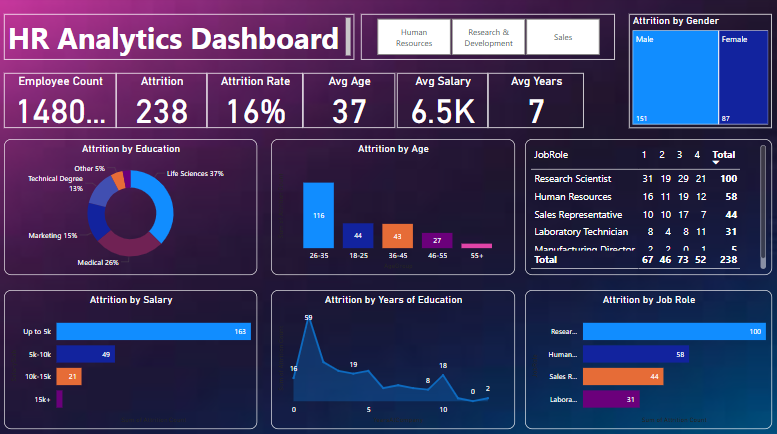

The page's visual inventory and layout, read from the dashboard file:
{"tool":"powerbi","page":{"name":"Page 1","canvas":[1280,720],"ordinal":0},"visuals":[{"type":"card","title":"Employee Count","fields":{"Values":["Sum(HR_Data.EmployeeCount)"]},"box":[8.2,124.6,165.5,90.1],"z":0},{"type":"card","title":"Attrition Rate","fields":{"Values":["HR_Data.Attrition_Rate"]},"box":[367.1,124.6,157.3,90.1],"z":1000},{"type":"card","title":"Avg Age","fields":{"Values":["HR_Data.Avg Age"]},"box":[549,124.6,150.8,90.1],"z":2000},{"type":"card","title":"Avg Salary","fields":{"Values":["Avg(HR_Data.MonthlyIncome)"]},"box":[712.9,124.6,149.1,90.1],"z":3000},{"type":"card","title":"Avg Years","fields":{"Values":["Avg(HR_Data.YearsAtCompany)"]},"box":[880.1,124.6,129.5,90.1],"z":4000},{"type":"card","title":"Attrition","fields":{"Values":["Sum(HR_Data.Attrition Count)"]},"box":[188.5,124.6,152.4,90.1],"z":5000},{"type":"textbox","box":[8.2,27.9,573.6,75.4],"z":6000},{"type":"slicer","fields":{"Values":["Departments.Department"]},"box":[593.3,27.9,416.3,75.4],"z":7000},{"type":"treemap","title":"Attrition by Gender","fields":{"Group":["HR_Data.Gender"],"Values":["Sum(HR_Data.Attrition Count)"]},"box":[1032.5,27.9,234.4,186.8],"z":8000},{"type":"donutChart","title":"Attrition by Education","fields":{"Category":["Education.Education"],"Y":["Sum(HR_Data.Attrition Count)"]},"box":[8.2,232.7,414.6,222.9],"z":9000},{"type":"columnChart","title":"Attrition by Age","fields":{"Y":["Sum(HR_Data.Attrition Count)"],"Category":["HR_Data.AgeGroup"],"Series":["HR_Data.AgeGroup"]},"box":[445.8,232.7,399.9,222.9],"z":10000},{"type":"barChart","title":"Attrition by Salary","fields":{"Y":["Sum(HR_Data.Attrition Count)"],"Category":["HR_Data.SalarySlab"],"Series":["HR_Data.SalarySlab"]},"box":[8.2,480.2,414.6,227.8],"z":11000},{"type":"pivotTable","title":"Attrition by Education","fields":{"Rows":["Jobs.JobRole"],"Values":["Sum(HR_Data.Attrition Count)"],"Columns":["HR_Data.JobSatisfaction"]},"box":[862.1,232.7,404.8,222.9],"z":12000},{"type":"areaChart","title":"Attrition by Years of Education","fields":{"Category":["HR_Data.YearsAtCompany"],"Y":["Sum(HR_Data.Attrition Count)"]},"box":[445.8,480.2,399.9,227.8],"z":13000},{"type":"barChart","title":"Attrition by Job Role","fields":{"Y":["Sum(HR_Data.Attrition Count)"],"Category":["Jobs.JobRole"],"Series":["Jobs.JobRole"]},"box":[862.1,480.2,404.8,227.8],"z":14000}]}

Visuals, with their boxes in screenshot pixels (x1, y1, x2, y2), scaled from the page's 1280x720 canvas onto the 777x434 screenshot:
"Employee Count" card: locate(5, 75, 105, 129)
"Attrition Rate" card: locate(223, 75, 318, 129)
"Avg Age" card: locate(333, 75, 425, 129)
"Avg Salary" card: locate(433, 75, 523, 129)
"Avg Years" card: locate(534, 75, 613, 129)
"Attrition" card: locate(114, 75, 207, 129)
textbox: locate(5, 17, 353, 62)
slicer - Departments.Department: locate(360, 17, 613, 62)
"Attrition by Gender" treemap: locate(627, 17, 769, 129)
"Attrition by Education" donutChart: locate(5, 140, 257, 275)
"Attrition by Age" columnChart: locate(271, 140, 513, 275)
"Attrition by Salary" barChart: locate(5, 289, 257, 427)
"Attrition by Education" pivotTable: locate(523, 140, 769, 275)
"Attrition by Years of Education" areaChart: locate(271, 289, 513, 427)
"Attrition by Job Role" barChart: locate(523, 289, 769, 427)
